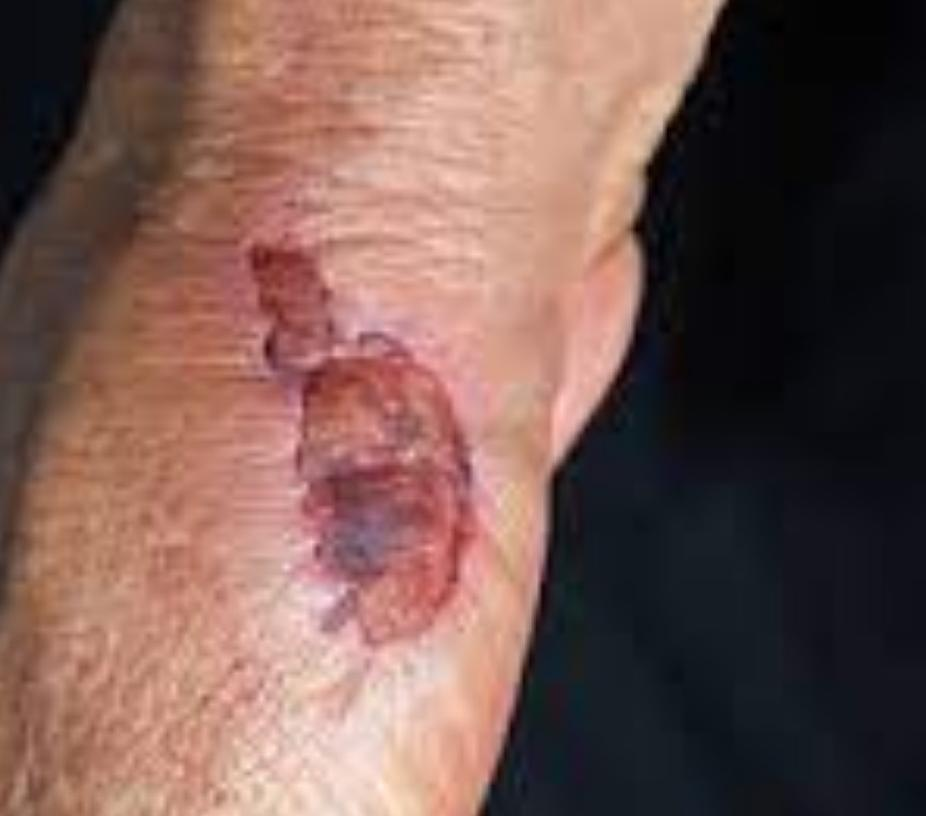Stage2: (238, 229, 470, 672)
